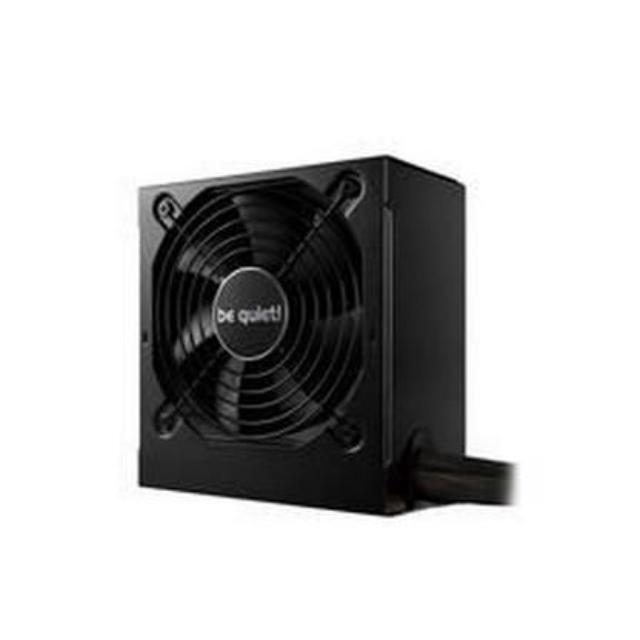PSU: (124, 143, 487, 534)
